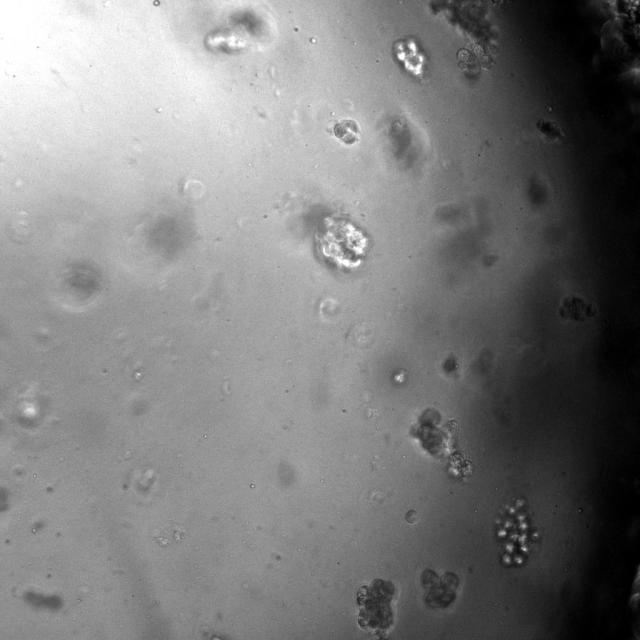organoid: (430, 0, 498, 77), (410, 407, 473, 480), (496, 499, 540, 566), (316, 216, 368, 269), (357, 578, 396, 639), (392, 36, 428, 81), (421, 567, 459, 607), (559, 296, 596, 321), (334, 119, 360, 145), (536, 118, 563, 141)
